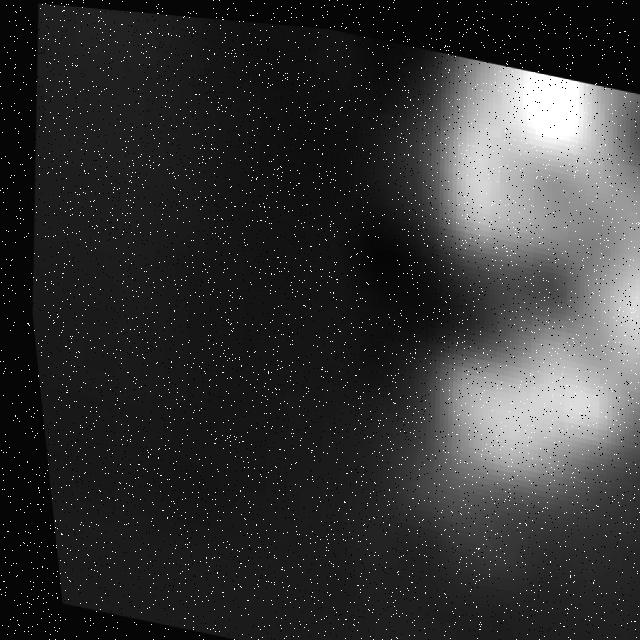person: (312, 27, 640, 581)
